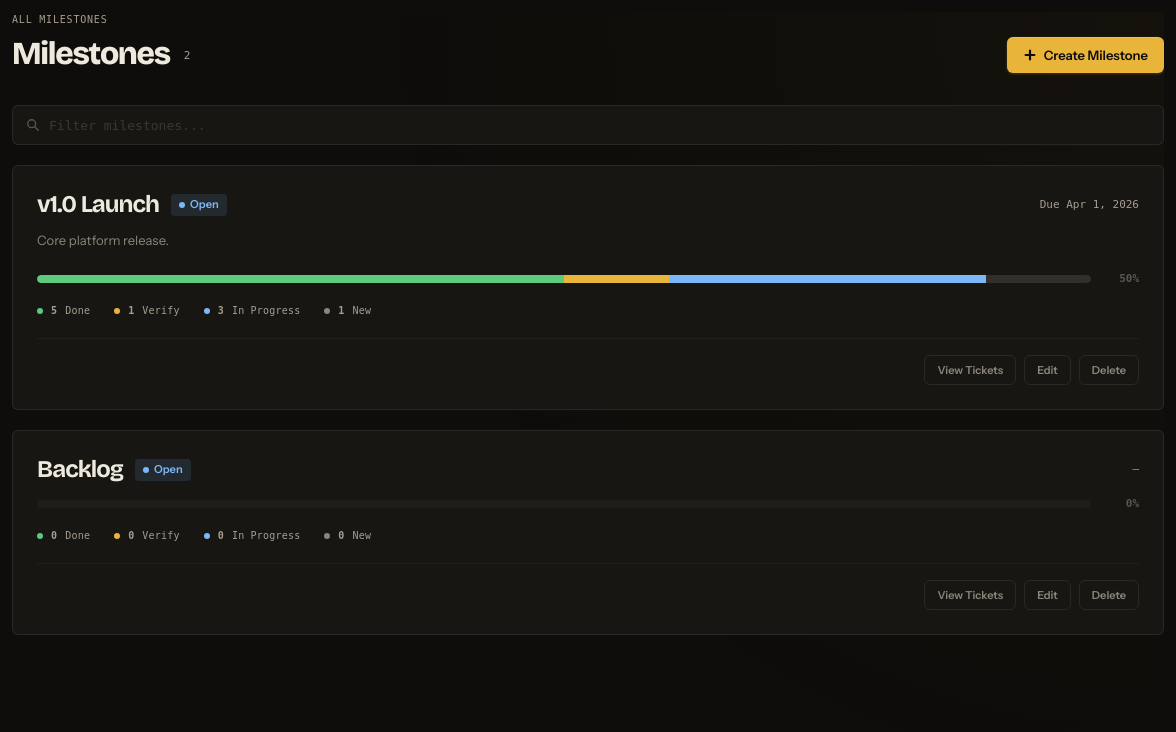
MilestoneListPage › filters milestones by description
Expected: the text "v1.0 Launch" is shown, 37,190 -> 159,219
Type "platform" into the field with placeholder "Filter milestones..." at (588, 125), box 12,105 -> 1164,145
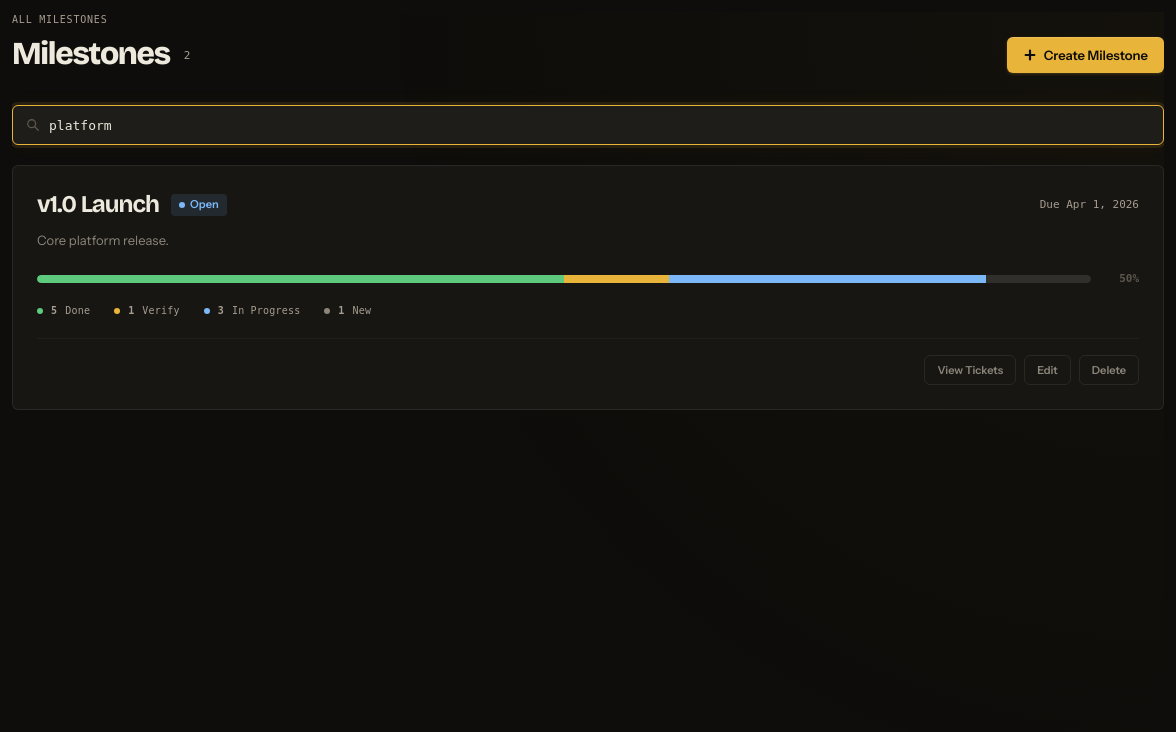
Expected: the text "v1.0 Launch" is shown, 37,190 -> 159,219
Expected: the text "Backlog" is gone
